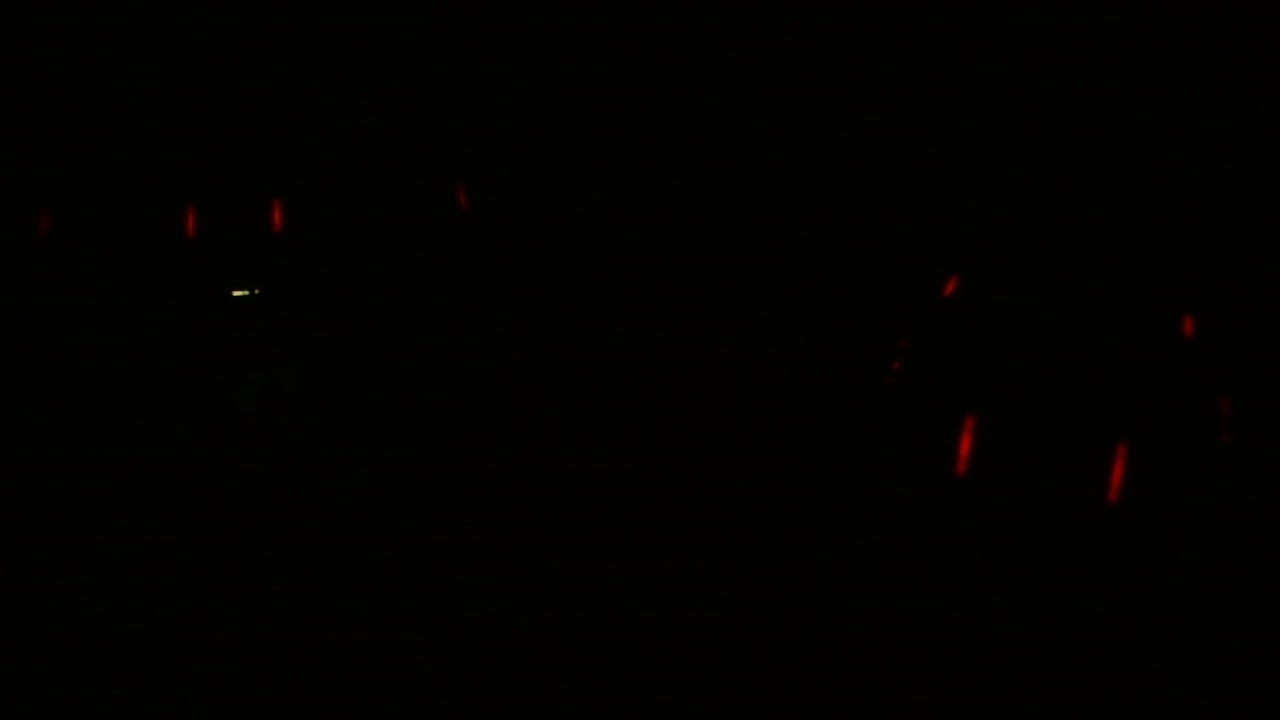pair1: (953, 407, 1127, 508), (177, 200, 288, 237)
